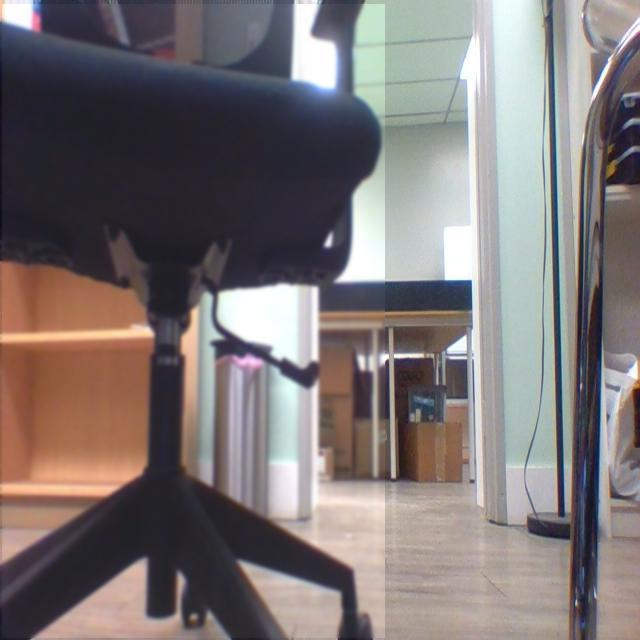chair: (0, 0, 375, 640)
